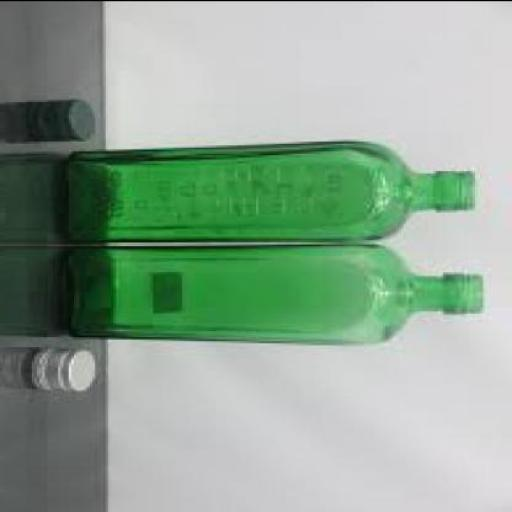glass: (63, 246, 488, 344), (66, 143, 478, 241)
metal: (26, 101, 98, 143), (31, 348, 98, 393)
